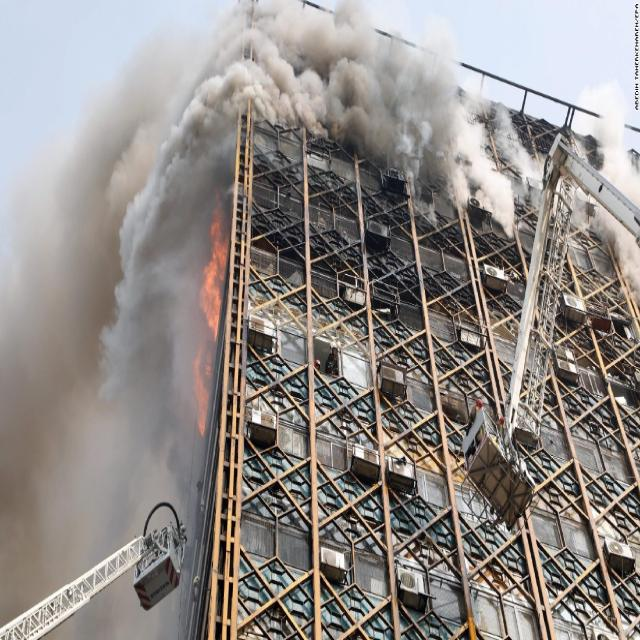smoke: (232, 16, 449, 152), (132, 89, 201, 414)
